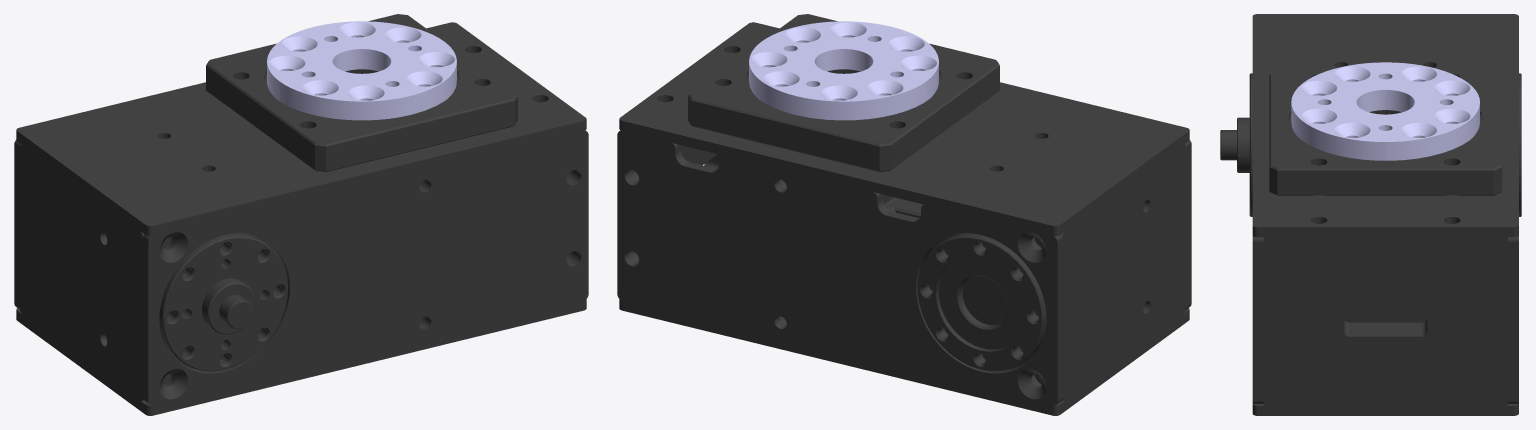
File: hitch_yaw_link.dae
3 renders of one model, left to right at view 1: azimuth 30°, elevation 25°; view 2: azimuth 150°, elevation 25°; view 3: azimuth 270°, elevation 25°, orthographic.
Visible parts, largest first — view 1: node (×2); view 2: node (×2); view 3: node (×2).
Part boxes in pixels (box(x1,y1,x2,y2)): node (×2): box(14, 14, 588, 415); node (×2): box(617, 14, 1191, 415); node (×2): box(1220, 14, 1521, 415).
Size of the model in its own units: 0.091 by 0.0543 by 0.047.
